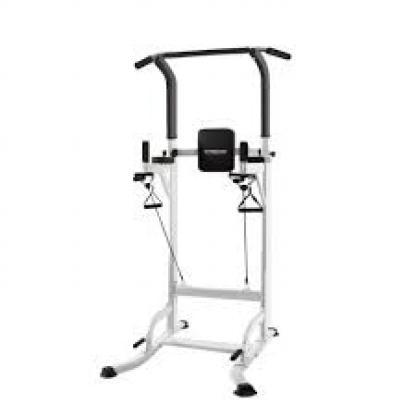chinning dipping: (100, 45, 292, 397)
